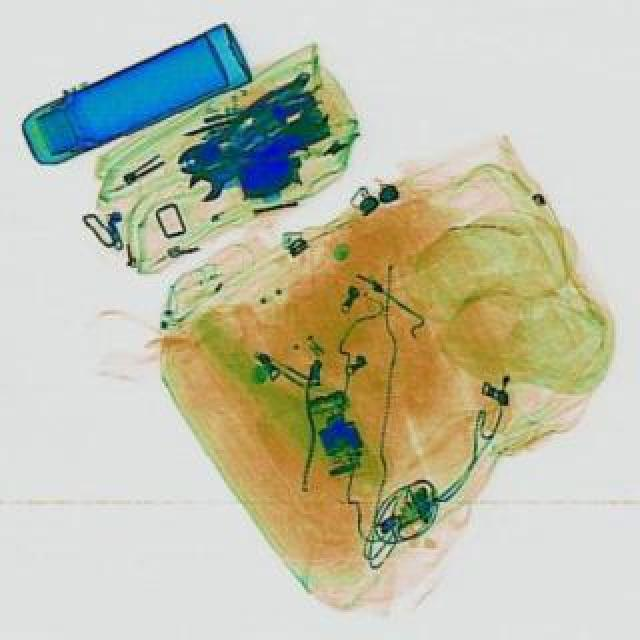scissors: (178, 124, 298, 212)
wrench: (168, 72, 336, 202)
